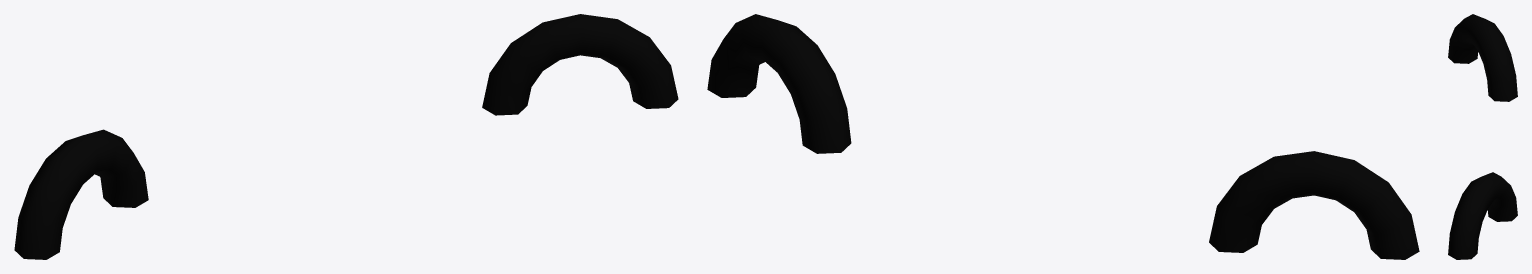
File: Eyes_MM_Closed.fbx
3 views of the same model, side by side, from view 1: azimuth 30°, elevation 25°; view 2: azimuth 150°, elevation 25°; view 3: azimuth 270°, elevation 25° (orthographic). The views are drawn at different scales.
Parts seen in each view (by area): view 1: Torus; view 2: Torus; view 3: Torus.
Part boxes in pixels (left/top/right/bottom): Torus: left=14, top=14, right=678, bottom=259; Torus: left=707, top=14, right=1419, bottom=259; Torus: left=1448, top=14, right=1517, bottom=259.
Bounding box in the file's own units: 14.05 × 1.83 × 2.
1 material, 1 textured.
